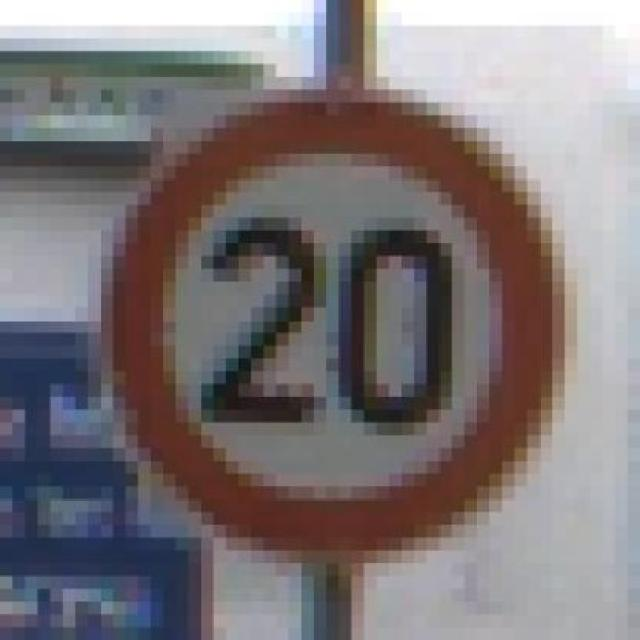forb_speed_over_20: (112, 97, 556, 557)
